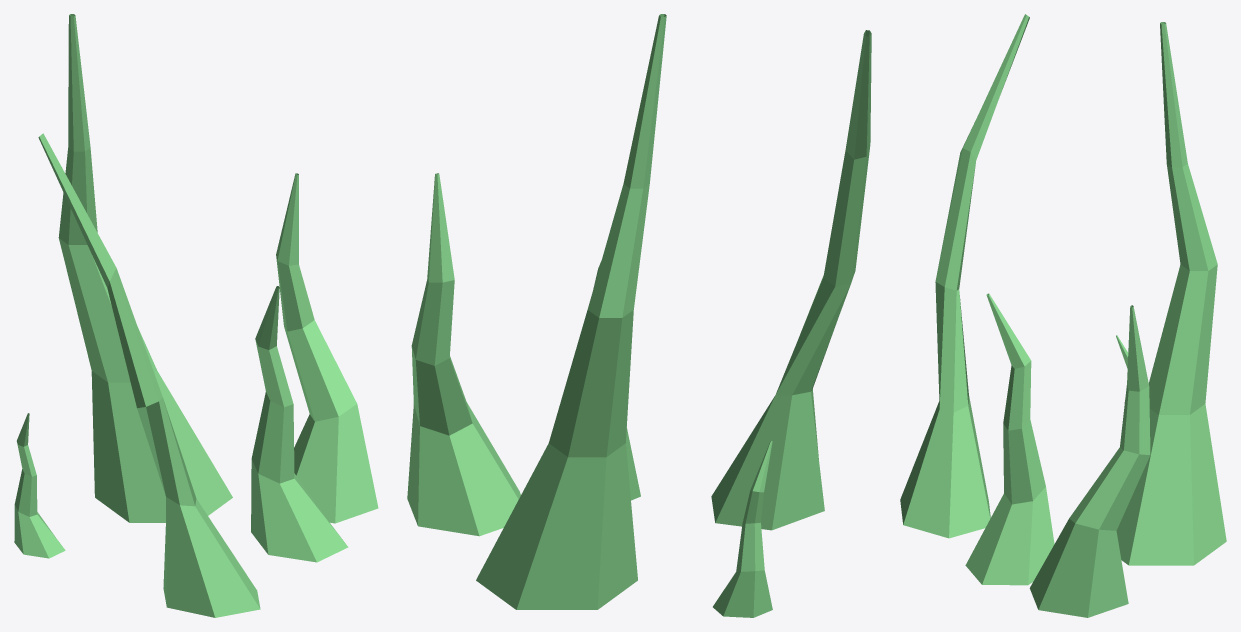
The picture shows the model from 3 angles, left to right: view 1: azimuth 30°, elevation 25°; view 2: azimuth 150°, elevation 25°; view 3: azimuth 270°, elevation 25°; orthographic projection. The views are drawn at different scales.
Parts seen in each view (by area): view 1: Cone, Cone_003, Cone_001, Cone_002, Cone_004; view 2: Cone, Cone_003, Cone_001, Cone_004; view 3: Cone, Cone_003, Cone_001, Cone_002.
Part boxes in pixels (x1,y1,x2,y2): Cone: [58, 14, 232, 522]; Cone_003: [38, 133, 260, 617]; Cone_001: [276, 173, 378, 523]; Cone_002: [251, 286, 348, 562]; Cone_004: [14, 413, 65, 558]; Cone: [476, 14, 666, 609]; Cone_003: [711, 30, 871, 530]; Cone_001: [407, 173, 520, 536]; Cone_004: [713, 441, 772, 617]; Cone: [1116, 22, 1226, 565]; Cone_003: [900, 14, 1029, 538]; Cone_001: [1029, 305, 1150, 617]; Cone_002: [965, 293, 1054, 585].
Bounding box in the file's own units: 0.9459 × 0.7798 × 1.27.
